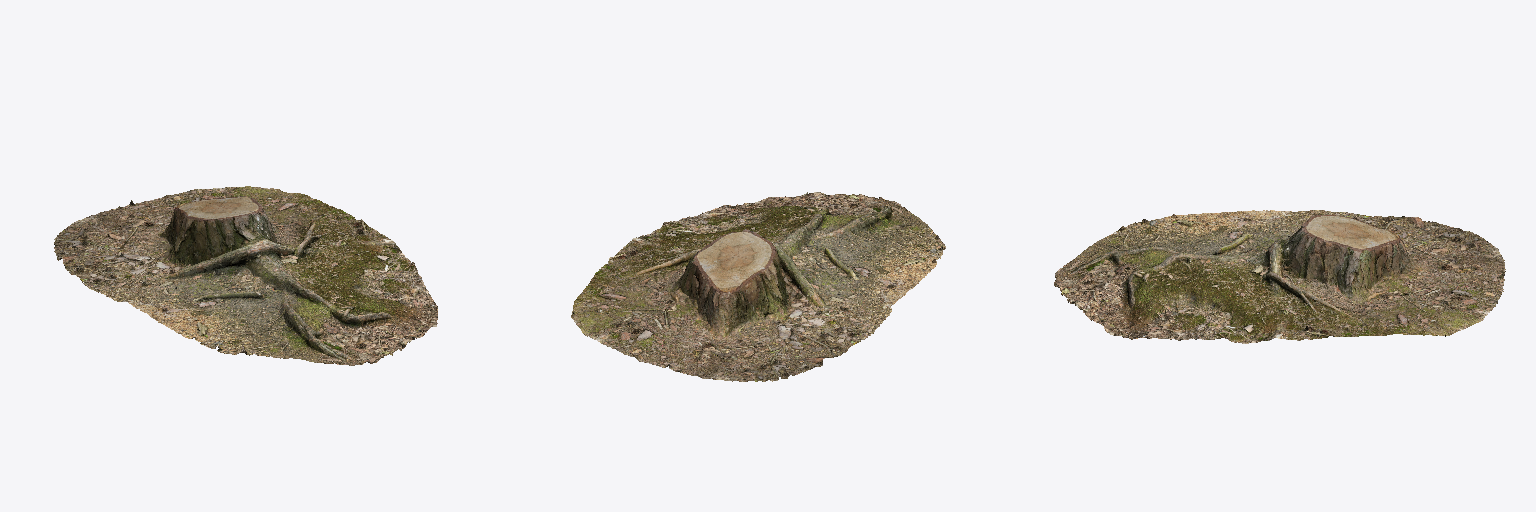
The picture shows the model from 3 angles: view 1: azimuth 30°, elevation 25°; view 2: azimuth 150°, elevation 25°; view 3: azimuth 270°, elevation 25°; orthographic projection.
Visible parts, largest first — view 1: tree_stump; view 2: tree_stump; view 3: tree_stump.
Boxes of the visible parts, x1=… form: tree_stump: x1=54, y1=186, x2=437, y2=365; tree_stump: x1=571, y1=192, x2=945, y2=381; tree_stump: x1=1054, y1=210, x2=1505, y2=343.
Size of the model in its own units: 0.9732 by 0.2178 by 1.4.
1 materials, 1 textured.